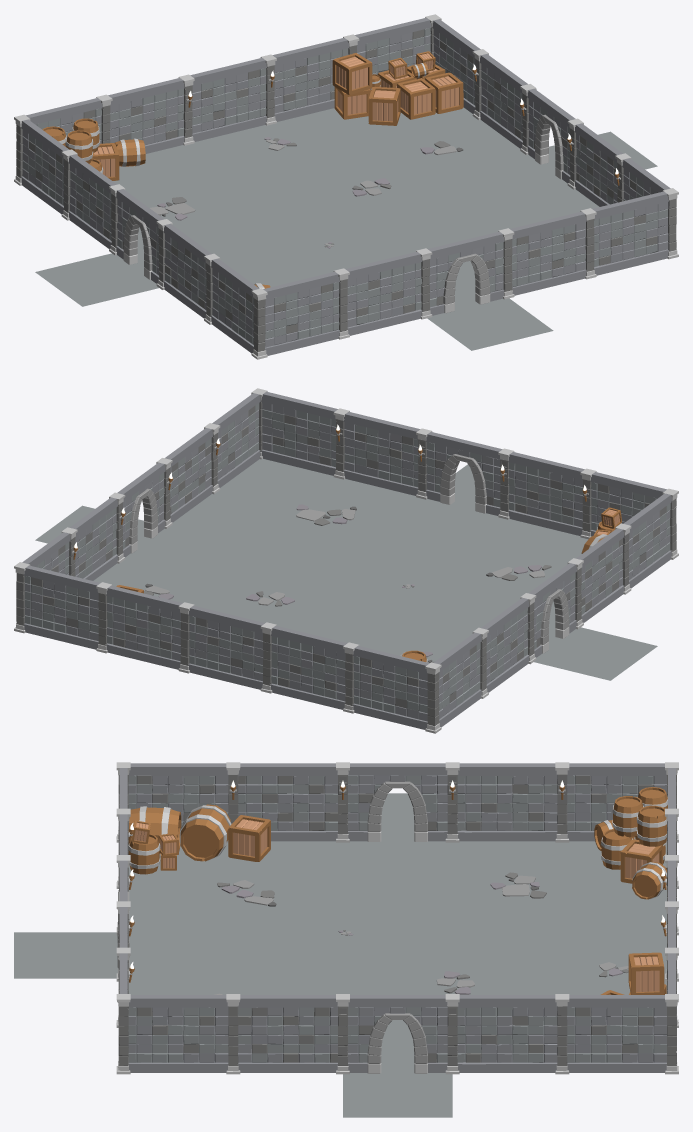
File: DungeonModel.gltf
3 views of the same model, one above another, from view 1: azimuth 30°, elevation 25°; view 2: azimuth 150°, elevation 25°; view 3: azimuth 270°, elevation 25° (orthographic). The views are drawn at different scales.
Visible parts, largest first — view 1: Wall A, Wall A.001, Wall A.004, Wall A.002, Wall A.010, Doorway.001, Wall A.009, Wall A.011, Floor.006, Floor.010, Floor.011, Floor.014 (+38 smaller); view 2: Wall A.011, Wall A.009, Wall A.010, Wall A.008, Wall A.001, Wall A.002, Wall A.012, Doorway.001, Wall A.004, Floor.006, Floor.009, Floor.010 (+29 smaller); view 3: Wall A.014, Wall A.007, Wall A.003, Wall A.016, Doorway.002, Doorway.003, Wall.001, Wall.002, オブジェクト, Floor.009, Floor.006, Floor.011 (+42 smaller).
Boxes of the visible parts, x1=… form: Wall A: x1=251, y1=271, x2=339, y2=359; Wall A.001: x1=333, y1=251, x2=422, y2=339; Wall A.004: x1=592, y1=188, x2=678, y2=275; Wall A.002: x1=510, y1=208, x2=596, y2=295; Wall A.010: x1=178, y1=58, x2=266, y2=145; Doorway.001: x1=416, y1=228, x2=514, y2=319; Wall A.009: x1=260, y1=38, x2=349, y2=125; Wall A.011: x1=96, y1=78, x2=184, y2=153; Floor.006: x1=200, y1=212, x2=328, y2=266; Floor.010: x1=282, y1=194, x2=410, y2=245; Floor.011: x1=234, y1=157, x2=354, y2=211; Floor.014: x1=365, y1=172, x2=493, y2=226; Wall A.011: x1=270, y1=625, x2=359, y2=713; Wall A.009: x1=106, y1=585, x2=194, y2=673; Wall A.010: x1=188, y1=605, x2=276, y2=693; Wall A.008: x1=24, y1=565, x2=112, y2=653; Wall A.001: x1=508, y1=452, x2=596, y2=539; Wall A.002: x1=333, y1=408, x2=420, y2=495; Wall A.012: x1=353, y1=645, x2=441, y2=733; Doorway.001: x1=416, y1=428, x2=514, y2=519; Wall A.004: x1=251, y1=388, x2=337, y2=475; Floor.006: x1=364, y1=586, x2=492, y2=640; Floor.009: x1=329, y1=531, x2=458, y2=585; Floor.010: x1=287, y1=566, x2=410, y2=620; Wall A.014: x1=457, y1=762, x2=569, y2=842; Wall A.007: x1=457, y1=994, x2=569, y2=1074; Wall A.003: x1=128, y1=994, x2=240, y2=1074; Wall A.016: x1=567, y1=994, x2=678, y2=1074; Doorway.002: x1=336, y1=994, x2=459, y2=1074; Doorway.003: x1=336, y1=762, x2=459, y2=842; Wall.001: x1=238, y1=995, x2=337, y2=1072; Wall.002: x1=238, y1=763, x2=337, y2=841; オブジェクト: x1=128, y1=762, x2=240, y2=842; Floor.009: x1=233, y1=932, x2=342, y2=978; Floor.006: x1=343, y1=886, x2=452, y2=932; Floor.011: x1=452, y1=932, x2=562, y2=978.
Size of the model in its own units: 28 by 3.07 by 24.26.
7 materials, 6 textured.
